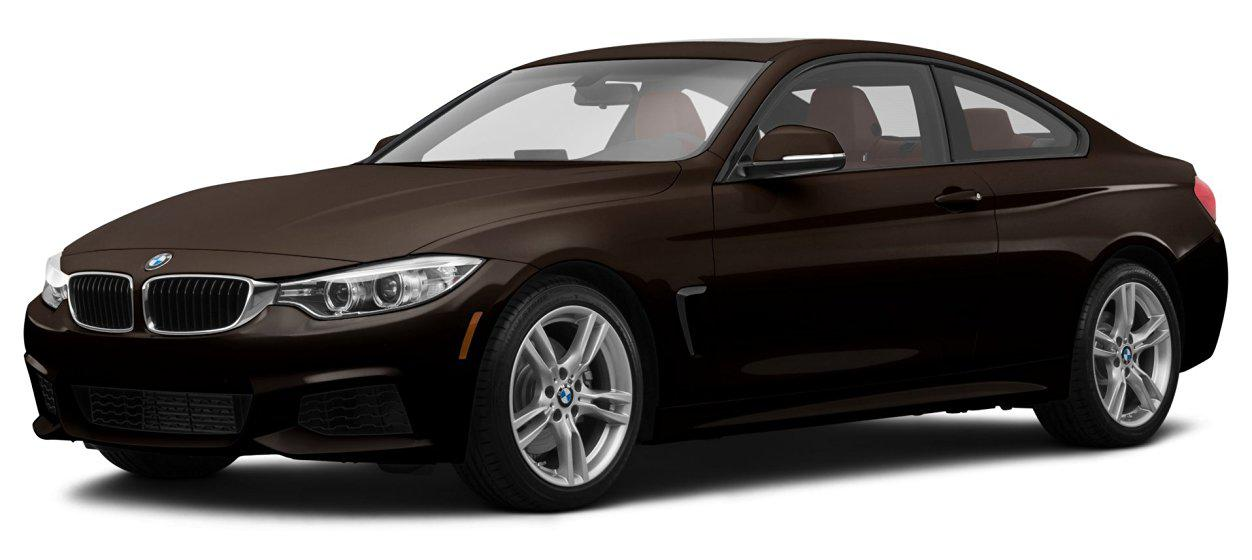bmw: (8, 29, 1241, 520)
